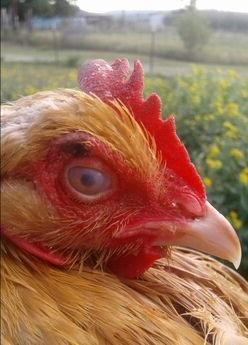AbNormal: (79, 57, 208, 215)
